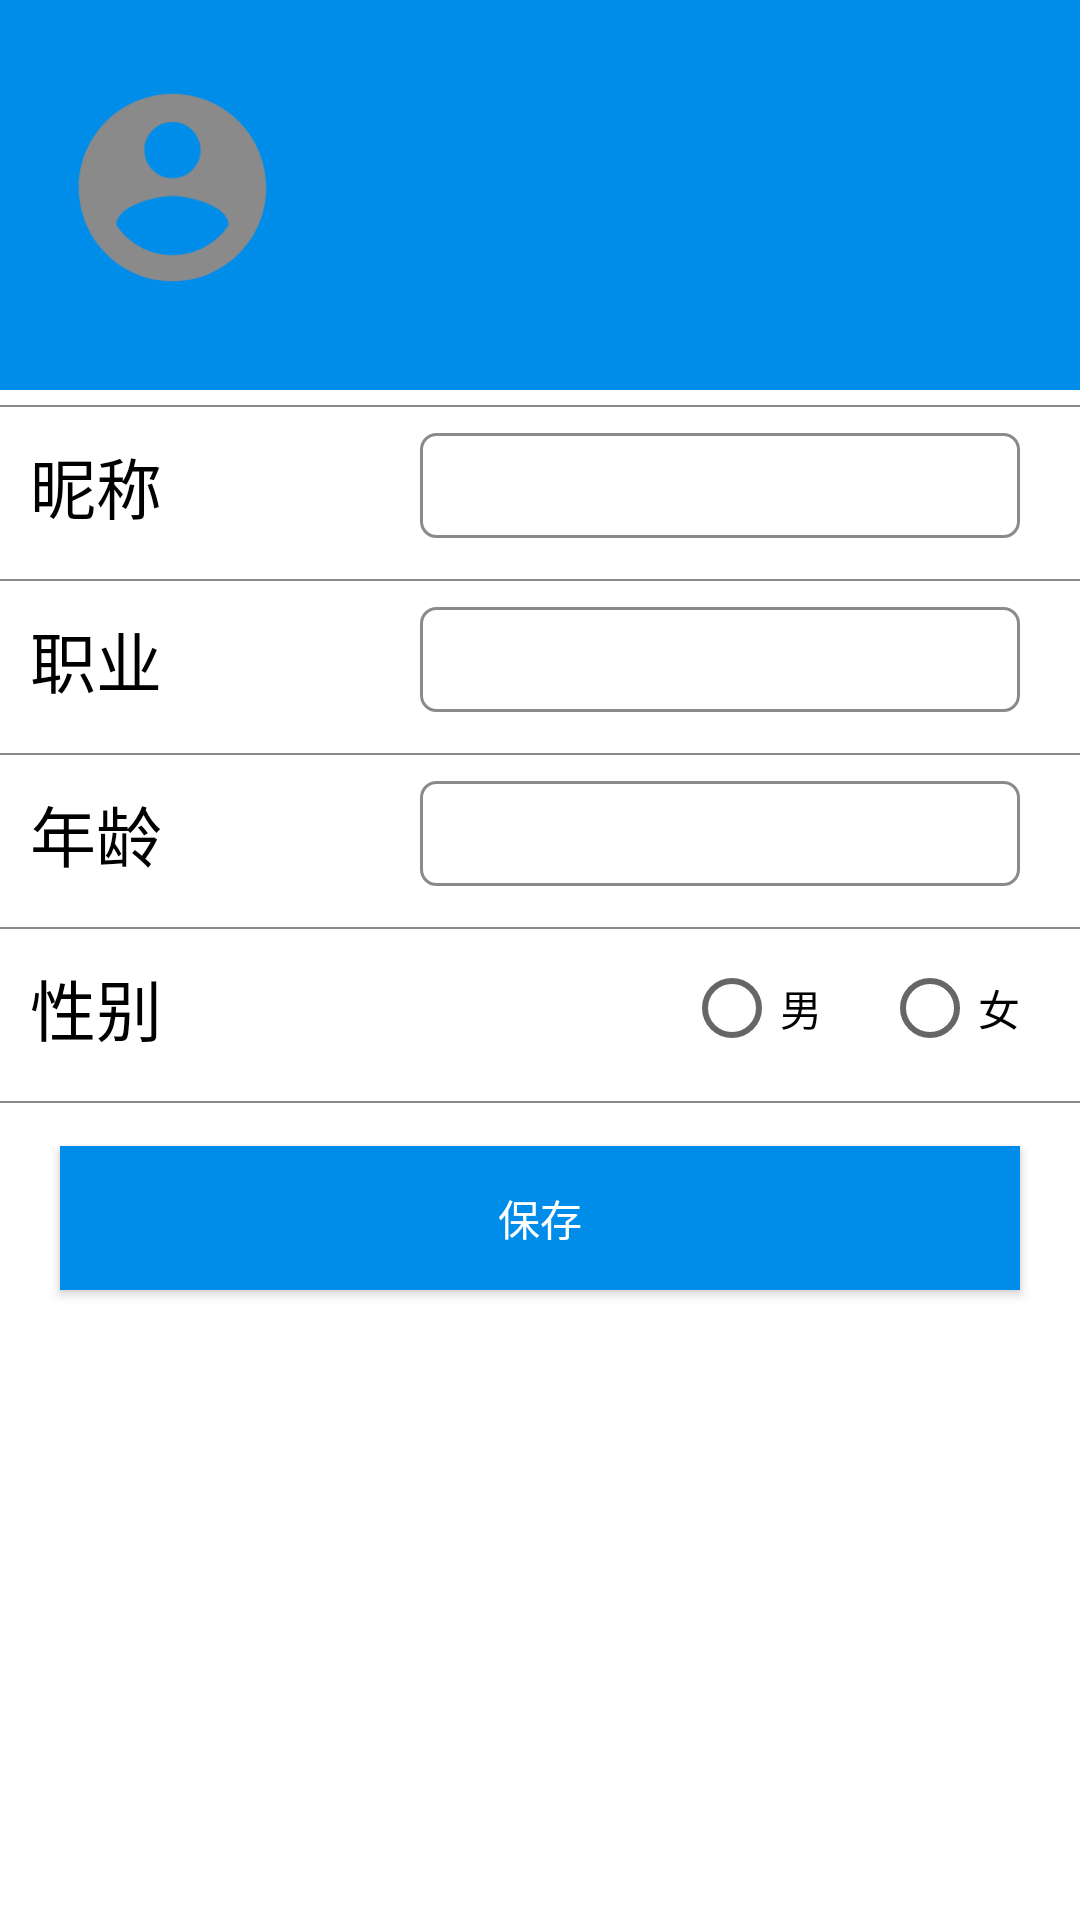

Where to tap for icons on this 1080w x 1920h app screen, as point (x, y):
account circle: point (172, 187)
